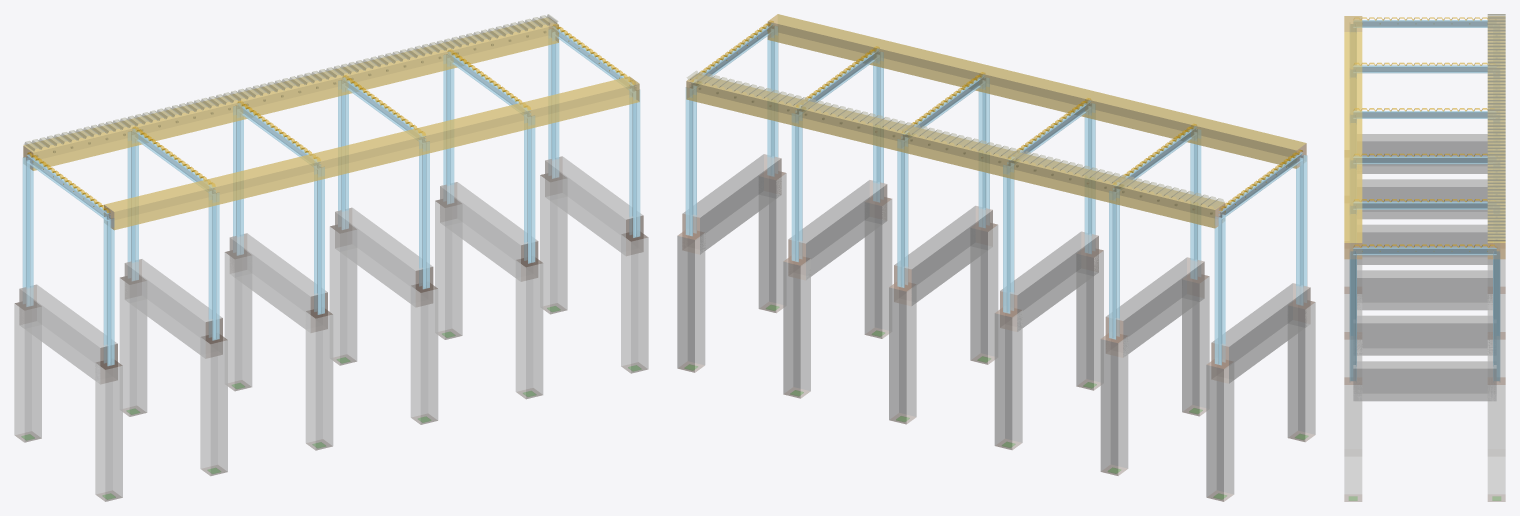
The model's file is MyTestModelRSTAB.glb.
3 renders of one model, left to right at view 1: azimuth 30°, elevation 25°; view 2: azimuth 150°, elevation 25°; view 3: azimuth 270°, elevation 25°, orthographic. The views are drawn at different scales.
Visible parts, largest first — view 1: Topology (×6); view 2: Topology (×6); view 3: Topology (×6).
Part boxes in pixels (left/top/right/bottom): Topology (×6): left=14, top=14, right=648, bottom=501; Topology (×6): left=677, top=14, right=1315, bottom=501; Topology (×6): left=1344, top=14, right=1505, bottom=501.
Size of the model in its own units: 15.5 by 7.96 by 4.5.
